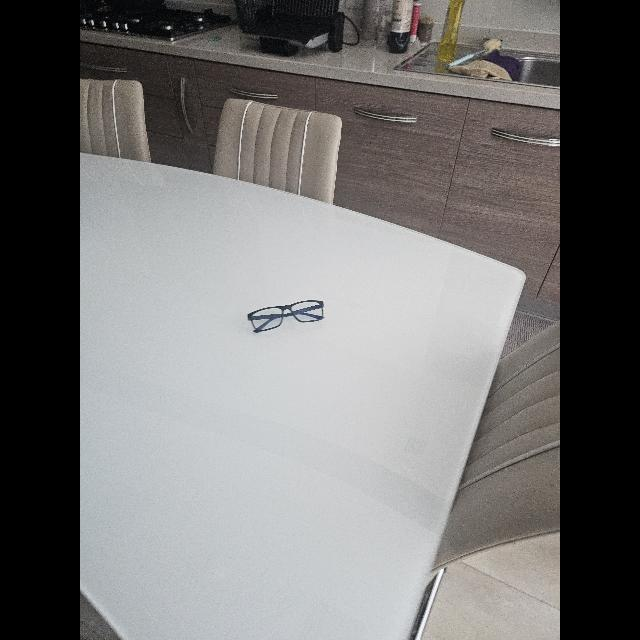glasses: (248, 300, 324, 332)
